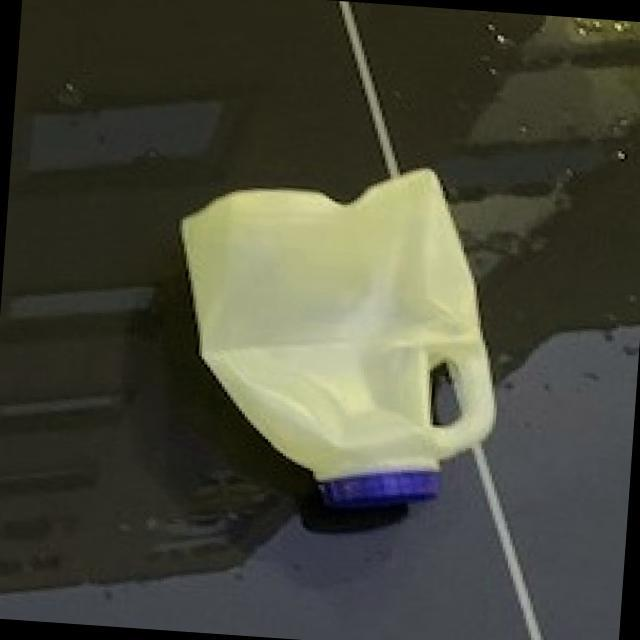HDPE Plastic: (180, 162, 500, 509)
